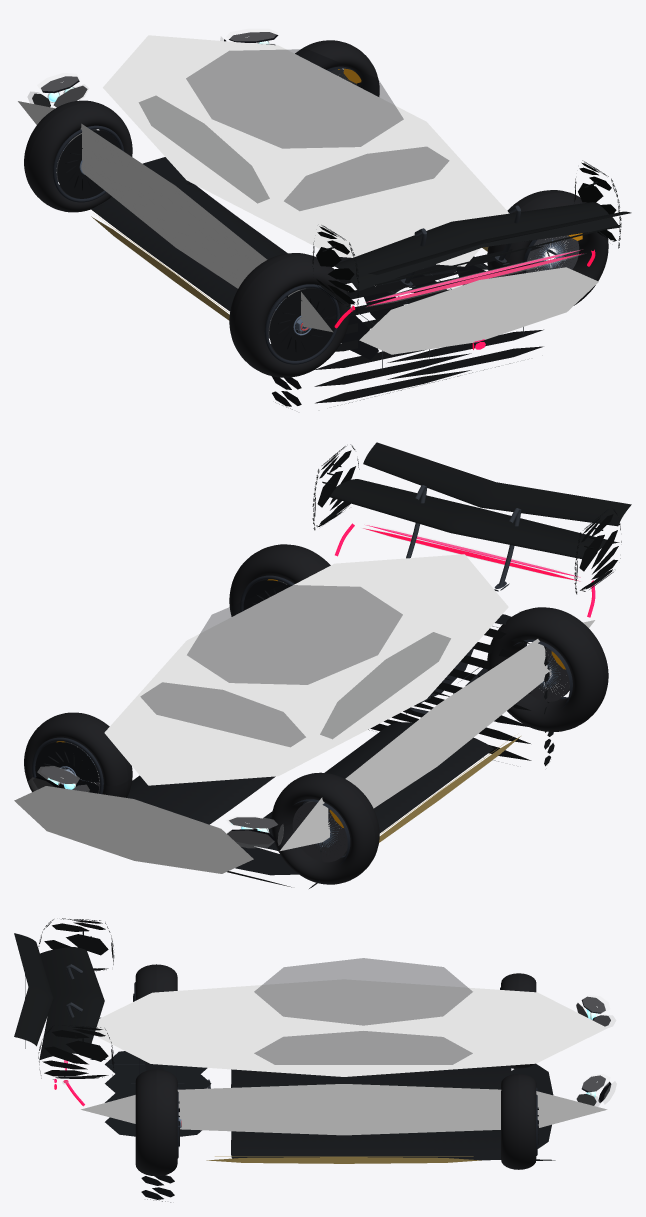
File: vehicle_wec_le_mans_hypercar_prototype.glb
3 renders of one model, top to bottom at view 1: azimuth 30°, elevation 25°; view 2: azimuth 150°, elevation 25°; view 3: azimuth 270°, elevation 25°, orthographic. The views are drawn at different scales.
Visible parts, largest first — view 1: WEC_LE_MANS_HYPERCAR_PROTOTYPE, ACTIVE_VENTURI_UNDERBODY_FLOOR, ACTIVE_GURNEY_FLAP_LIP, MICHELIN_CUP_2R_TRACK_TIRE.002, MICHELIN_CUP_2R_TRACK_TIRE, FRONT_MATRIX_HEADLIGHT_CLUSTER, MICHELIN_CUP_2R_TRACK_TIRE.003, AERO_TURBOFAN_COVER.002, AERODYNAMIC_ENDPLATE_ASSEMBLY, MICHELIN_CUP_2R_TRACK_TIRE.001, REAR_OLED_LIGHT_BLADE_ASSEMBLY, AERO_TURBOFAN_COVER (+7 smaller); view 2: WEC_LE_MANS_HYPERCAR_PROTOTYPE, ACTIVE_GURNEY_FLAP_LIP, ACTIVE_VENTURI_UNDERBODY_FLOOR, MICHELIN_CUP_2R_TRACK_TIRE.002, MICHELIN_CUP_2R_TRACK_TIRE, MICHELIN_CUP_2R_TRACK_TIRE.001, FRONT_MATRIX_HEADLIGHT_CLUSTER, MICHELIN_CUP_2R_TRACK_TIRE.003, AERODYNAMIC_ENDPLATE_ASSEMBLY, AERO_TURBOFAN_COVER.001, REAR_OLED_LIGHT_BLADE_ASSEMBLY, FLOATING_CSIC_BRAKE_ROTOR (+5 smaller); view 3: WEC_LE_MANS_HYPERCAR_PROTOTYPE, ACTIVE_VENTURI_UNDERBODY_FLOOR, ACTIVE_GURNEY_FLAP_LIP, MICHELIN_CUP_2R_TRACK_TIRE.003, MICHELIN_CUP_2R_TRACK_TIRE.001, AERODYNAMIC_ENDPLATE_ASSEMBLY, DIFFUSER_STRAKE_1, SEALING_SKIRT_LEFT, FRONT_MATRIX_HEADLIGHT_CLUSTER, MICHELIN_CUP_2R_TRACK_TIRE.002, MICHELIN_CUP_2R_TRACK_TIRE.
Boxes of the visible parts, left/top/right/bottom form: WEC_LE_MANS_HYPERCAR_PROTOTYPE: left=18, top=35, right=598, bottom=354; ACTIVE_VENTURI_UNDERBODY_FLOOR: left=91, top=157, right=543, bottom=409; ACTIVE_GURNEY_FLAP_LIP: left=334, top=202, right=631, bottom=290; MICHELIN_CUP_2R_TRACK_TIRE.002: left=229, top=253, right=350, bottom=377; MICHELIN_CUP_2R_TRACK_TIRE: left=24, top=100, right=132, bottom=212; FRONT_MATRIX_HEADLIGHT_CLUSTER: left=28, top=29, right=582, bottom=311; MICHELIN_CUP_2R_TRACK_TIRE.003: left=487, top=190, right=608, bottom=305; AERO_TURBOFAN_COVER.002: left=269, top=288, right=336, bottom=360; AERODYNAMIC_ENDPLATE_ASSEMBLY: left=312, top=160, right=621, bottom=312; MICHELIN_CUP_2R_TRACK_TIRE.001: left=295, top=40, right=379, bottom=96; REAR_OLED_LIGHT_BLADE_ASSEMBLY: left=334, top=249, right=595, bottom=349; AERO_TURBOFAN_COVER: left=57, top=130, right=120, bottom=198; WEC_LE_MANS_HYPERCAR_PROTOTYPE: left=14, top=554, right=594, bottom=873; ACTIVE_GURNEY_FLAP_LIP: left=330, top=442, right=631, bottom=558; ACTIVE_VENTURI_UNDERBODY_FLOOR: left=127, top=579, right=554, bottom=888; MICHELIN_CUP_2R_TRACK_TIRE.002: left=487, top=607, right=608, bottom=731; MICHELIN_CUP_2R_TRACK_TIRE: left=271, top=772, right=379, bottom=884; MICHELIN_CUP_2R_TRACK_TIRE.001: left=24, top=712, right=132, bottom=797; FRONT_MATRIX_HEADLIGHT_CLUSTER: left=28, top=524, right=595, bottom=847; MICHELIN_CUP_2R_TRACK_TIRE.003: left=229, top=544, right=330, bottom=616; AERODYNAMIC_ENDPLATE_ASSEMBLY: left=312, top=444, right=621, bottom=594; AERO_TURBOFAN_COVER.001: left=35, top=742, right=98, bottom=793; REAR_OLED_LIGHT_BLADE_ASSEMBLY: left=335, top=523, right=595, bottom=617; FLOATING_CSIC_BRAKE_ROTOR: left=292, top=801, right=347, bottom=862; WEC_LE_MANS_HYPERCAR_PROTOTYPE: left=81, top=958, right=607, bottom=1135; ACTIVE_VENTURI_UNDERBODY_FLOOR: left=139, top=995, right=555, bottom=1202; ACTIVE_GURNEY_FLAP_LIP: left=14, top=933, right=104, bottom=1060; MICHELIN_CUP_2R_TRACK_TIRE.003: left=135, top=1069, right=177, bottom=1176; MICHELIN_CUP_2R_TRACK_TIRE.001: left=501, top=1074, right=536, bottom=1169; AERODYNAMIC_ENDPLATE_ASSEMBLY: left=38, top=918, right=114, bottom=1079; DIFFUSER_STRAKE_1: left=105, top=1051, right=211, bottom=1136; SEALING_SKIRT_LEFT: left=206, top=1156, right=481, bottom=1163; FRONT_MATRIX_HEADLIGHT_CLUSTER: left=62, top=995, right=616, bottom=1106; MICHELIN_CUP_2R_TRACK_TIRE.002: left=135, top=964, right=177, bottom=1000; MICHELIN_CUP_2R_TRACK_TIRE: left=501, top=973, right=536, bottom=1068.
Bounding box in the file's own units: 2.75 × 1.5 × 4.78.
